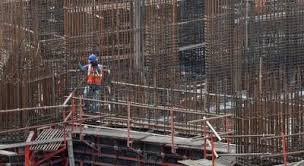arm: (74, 58, 88, 72)
helmet: (86, 51, 99, 64)
human: (79, 48, 108, 99)
leg: (89, 83, 101, 113)
novest: (86, 63, 103, 84)
vest: (86, 63, 103, 85)
